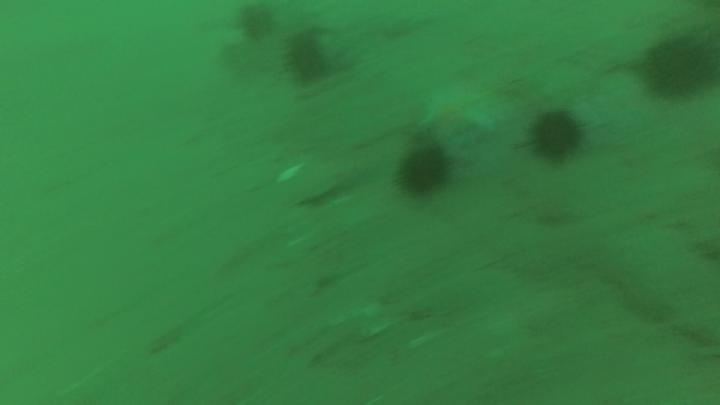echinus: (639, 30, 717, 102), (525, 106, 587, 165), (394, 142, 453, 200), (283, 29, 334, 87), (235, 3, 278, 44)
starfish: (416, 84, 494, 149)
